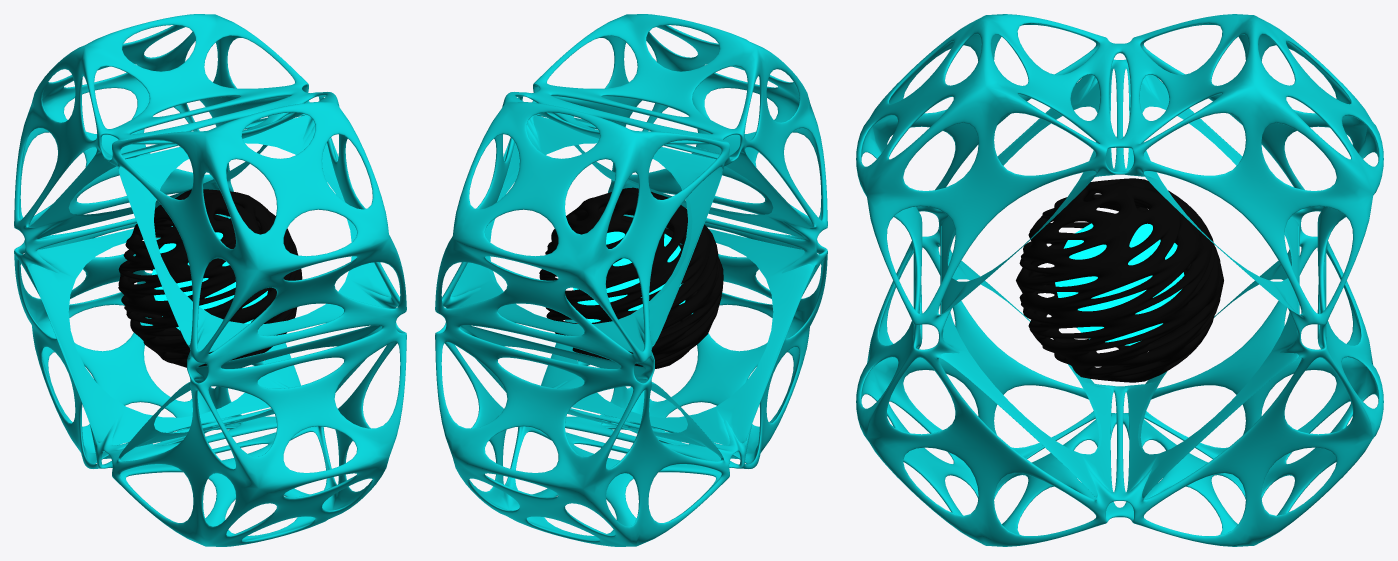
3 renders of one model, left to right at view 1: azimuth 30°, elevation 25°; view 2: azimuth 150°, elevation 25°; view 3: azimuth 270°, elevation 25°, orthographic. The views are drawn at different scales.
Parts seen in each view (by area): view 1: Cube.001, Icosphere.001, Icosphere.002; view 2: Cube.001, Icosphere.001, Icosphere.002; view 3: Cube.001, Icosphere.001, Icosphere.002.
Boxes of the visible parts, x1,y1,x2,y2 form: Cube.001: [14, 14, 406, 546]; Icosphere.001: [118, 189, 302, 367]; Icosphere.002: [152, 232, 267, 330]; Cube.001: [435, 14, 827, 546]; Icosphere.001: [539, 187, 723, 368]; Icosphere.002: [573, 231, 685, 322]; Cube.001: [856, 14, 1383, 546]; Icosphere.001: [1016, 178, 1223, 382]; Icosphere.002: [1055, 223, 1184, 345].
Bounding box in the file's own units: 2.31 × 4.5 × 4.5.
